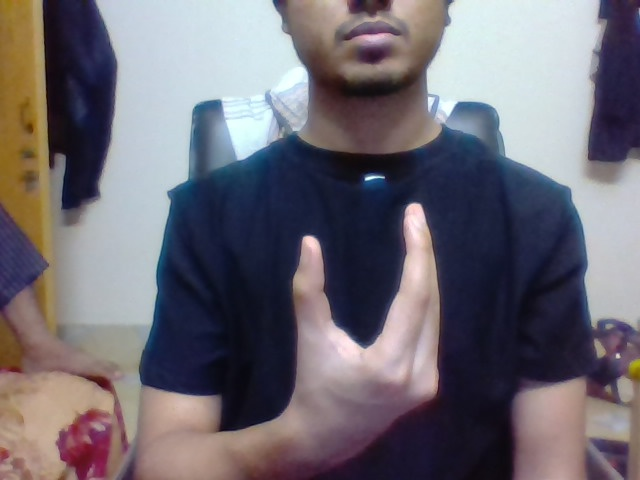U: (279, 191, 460, 387)
